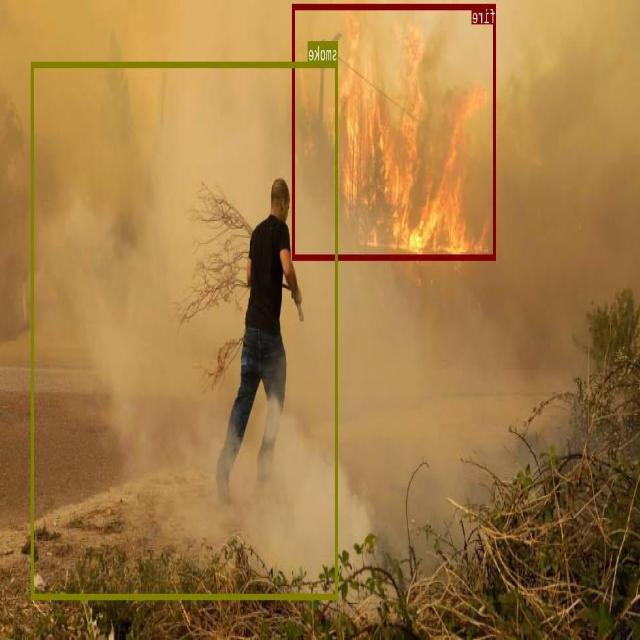fire: (293, 2, 497, 258)
smoke: (32, 61, 338, 598)
